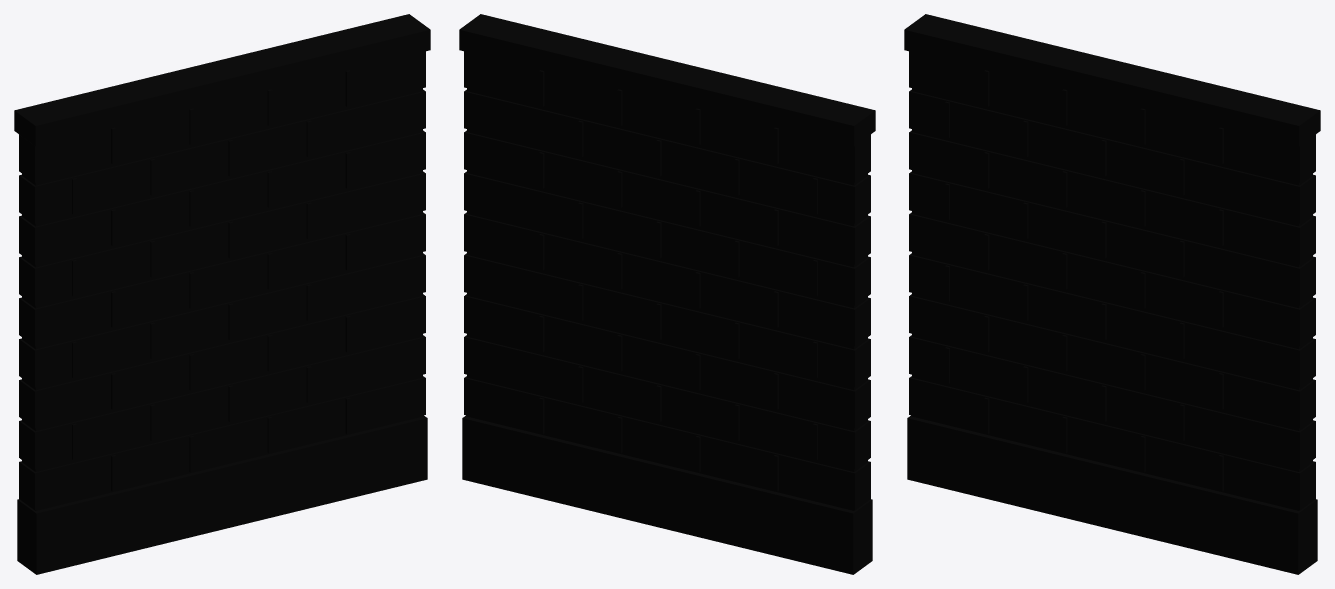
The model's file is BlockWall_A.fbx.
3 renders of one model, left to right at view 1: azimuth 30°, elevation 25°; view 2: azimuth 150°, elevation 25°; view 3: azimuth 330°, elevation 25°, orthographic.
Parts seen in each view (by area): view 1: Blocks, Base, Joints, Cap; view 2: Blocks, Base, Joints, Cap; view 3: Blocks, Base, Joints, Cap.
Boxes of the visible parts, x1=… form: Blocks: x1=19, y1=51, x2=425, y2=509; Base: x1=17, y1=415, x2=427, y2=574; Joints: x1=22, y1=70, x2=422, y2=510; Cap: x1=14, y1=14, x2=430, y2=146; Blocks: x1=464, y1=51, x2=870, y2=509; Base: x1=462, y1=415, x2=872, y2=574; Joints: x1=467, y1=70, x2=867, y2=510; Cap: x1=459, y1=14, x2=875, y2=146; Blocks: x1=909, y1=51, x2=1315, y2=509; Base: x1=907, y1=415, x2=1317, y2=574; Joints: x1=912, y1=70, x2=1312, y2=510; Cap: x1=904, y1=14, x2=1320, y2=146.
Bounding box in the file's own units: 2.02 × 2.2 × 0.19.
